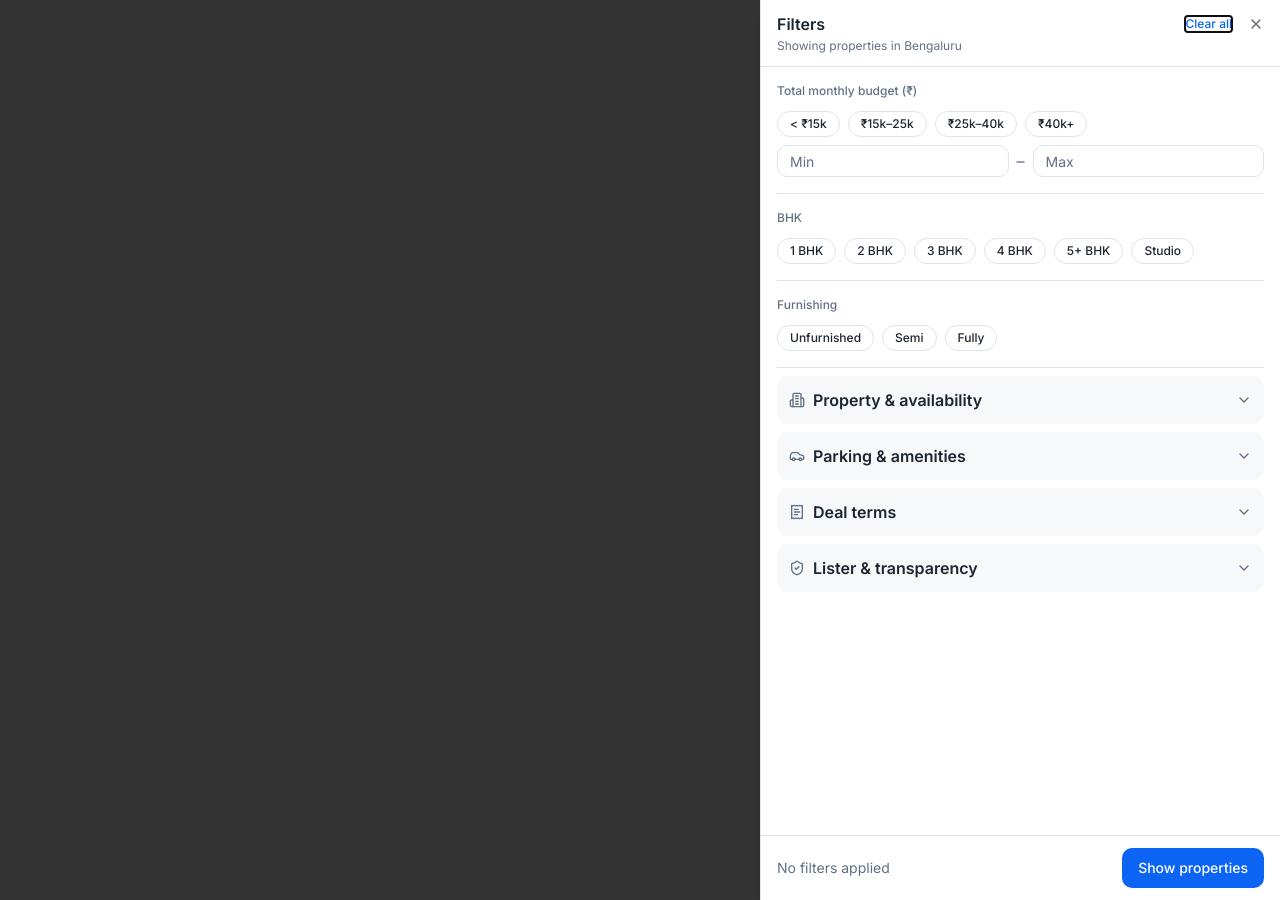
Test: Rent/Buy visibility › shows Brokerage section in rent (Deal terms group)
The image size is (1280, 900).
Click the button "Deal terms" at (855, 512), box x1=777 y1=488 x2=1264 y2=536
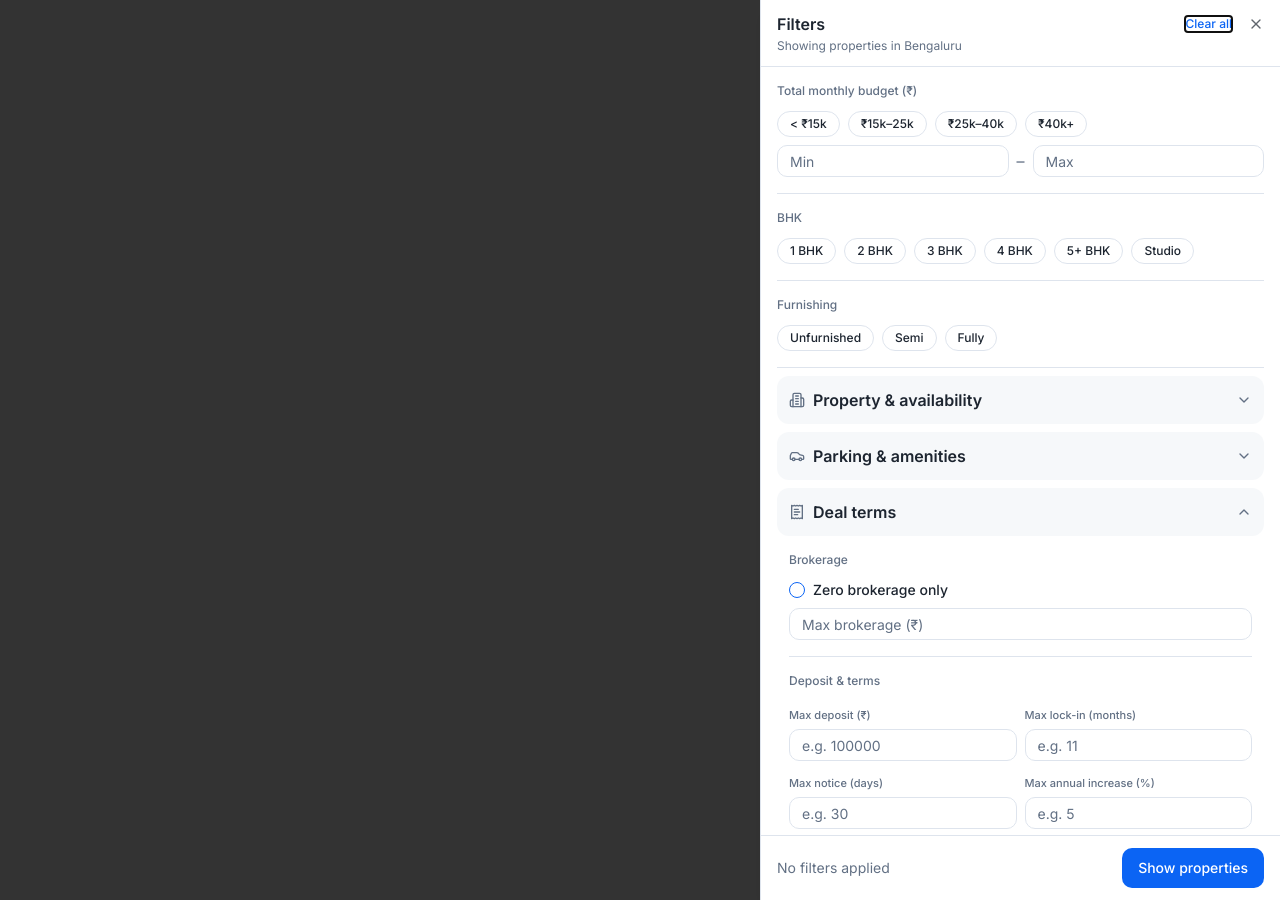
Result: the heading "Brokerage" is shown at x1=789 y1=552 x2=848 y2=568
